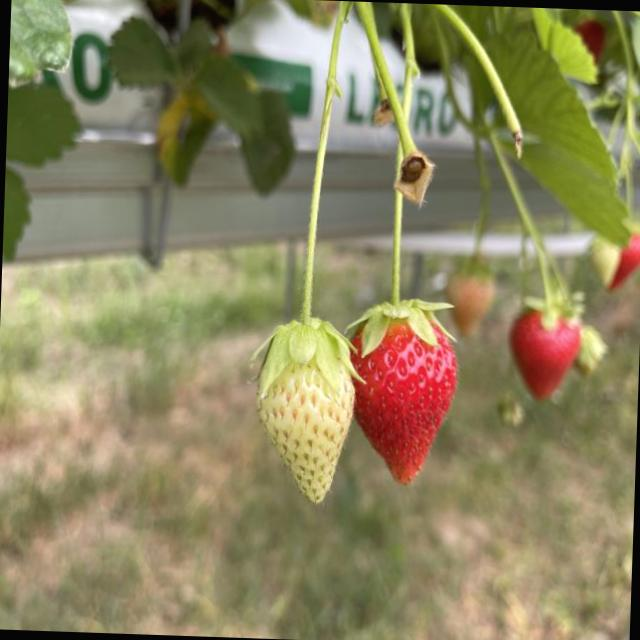stem: (257, 6, 348, 393), (352, 173, 447, 352)
strawberryNR: (256, 364, 351, 501)
strawberryR: (350, 323, 455, 480), (512, 310, 581, 398)
